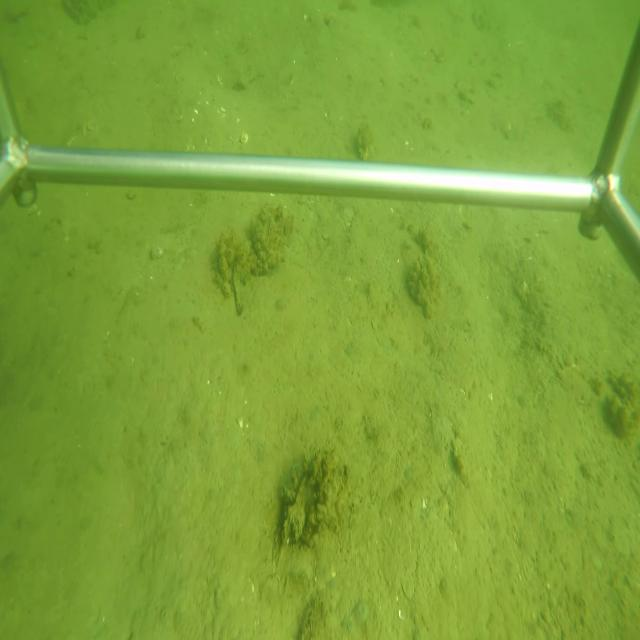Oyster-Closed: (230, 262, 249, 320)
Oyster-Indeterminate: (279, 462, 319, 544)
